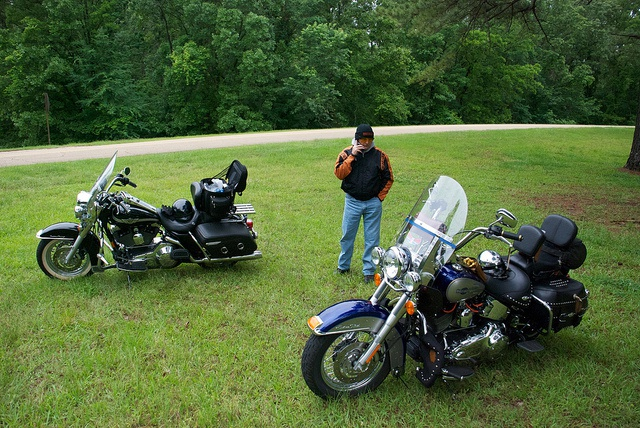non-vehicle: (300, 174, 590, 402), (36, 150, 262, 281)
